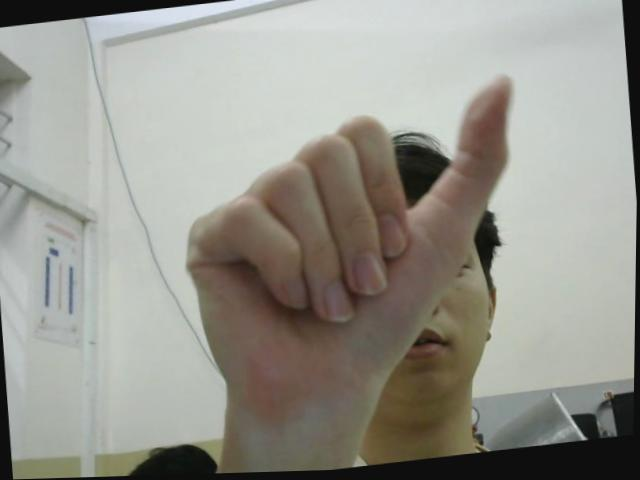A: (171, 75, 537, 406)
